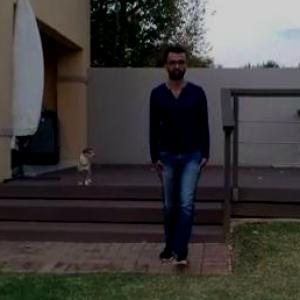follow: (136, 29, 208, 297)
